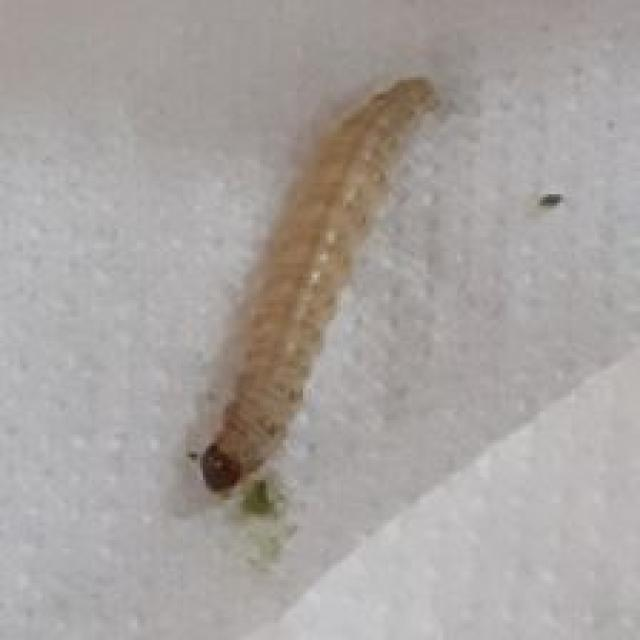white mucus: (168, 64, 461, 534)
